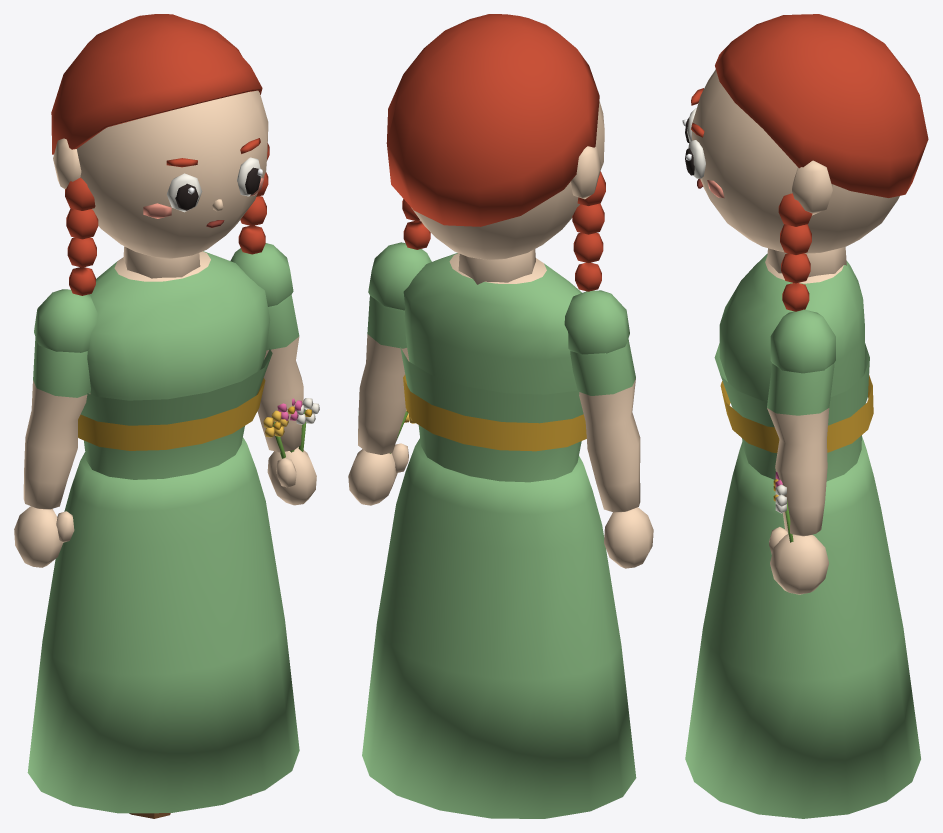
The model's file is gaertnerin.glb.
3 views of the same model, side by side, from view 1: azimuth 30°, elevation 25°; view 2: azimuth 150°, elevation 25°; view 3: azimuth 270°, elevation 25° (orthographic).
Parts seen in each view (by area): view 1: huefte, rumpf, kopf, haare, armL, armR, itemR, augeL, augeR; view 2: huefte, haare, rumpf, armL, armR, kopf; view 3: huefte, haare, rumpf, kopf, armR, augeR, itemR.
Boxes of the visible parts, left/top/right/bottom form: huefte: left=27, top=437, right=299, bottom=813; rumpf: left=78, top=251, right=272, bottom=479; kopf: left=53, top=90, right=268, bottom=278; haare: left=51, top=14, right=269, bottom=295; armL: left=14, top=289, right=97, bottom=567; armR: left=230, top=243, right=316, bottom=505; itemR: left=263, top=398, right=319, bottom=458; augeL: left=166, top=173, right=202, bottom=212; augeR: left=237, top=157, right=262, bottom=196; huefte: left=362, top=438, right=636, bottom=818; haare: left=386, top=14, right=605, bottom=291; rumpf: left=400, top=253, right=586, bottom=482; armL: left=564, top=290, right=653, bottom=568; armR: left=348, top=242, right=431, bottom=505; kopf: left=411, top=100, right=604, bottom=284; huefte: left=685, top=436, right=920, bottom=818; haare: left=715, top=14, right=928, bottom=311; rumpf: left=714, top=253, right=873, bottom=481; kopf: left=692, top=69, right=899, bottom=277; armR: left=767, top=309, right=835, bottom=594; augeR: left=685, top=140, right=705, bottom=178; itemR: left=773, top=471, right=793, bottom=542.
Size of the model in its own units: 0.9329 by 2.29 by 0.6776.
